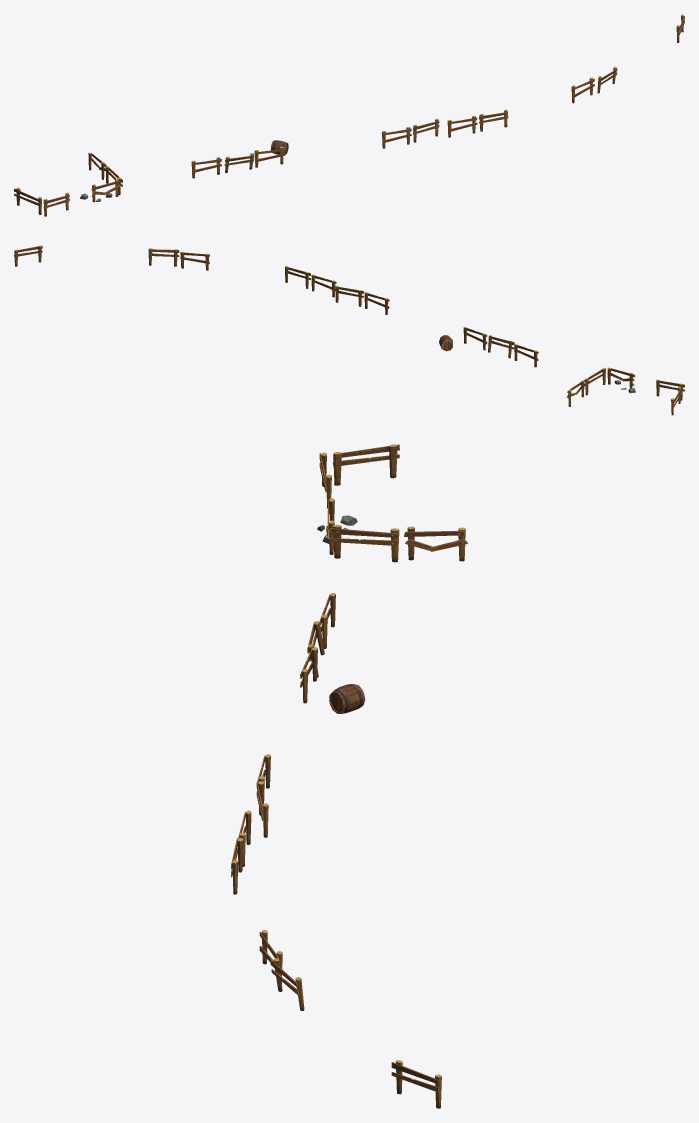
Rendered from wujian6_1.fbx.
3 views of the same model, one above another, from view 1: azimuth 30°, elevation 25°; view 2: azimuth 150°, elevation 25°; view 3: azimuth 270°, elevation 25° (orthographic). The views are drawn at different scales.
Visible parts, largest first — view 1: wujian6_1; view 2: wujian6_1; view 3: wujian6_1.
Part boxes in pixels (box(x1,y1,x2,y2)): wujian6_1: box(14, 14, 684, 216); wujian6_1: box(14, 245, 684, 415); wujian6_1: box(231, 444, 467, 1108).
Size of the model in its own units: 4955 by 128 by 783.
